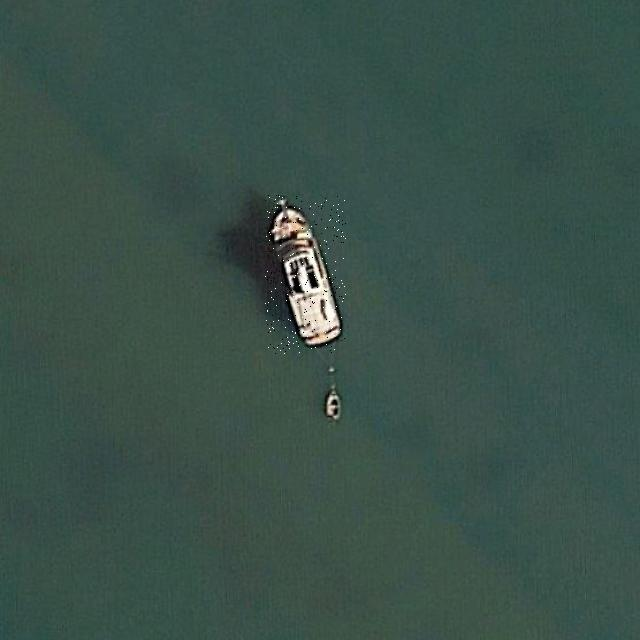boat: (265, 195, 346, 354)
